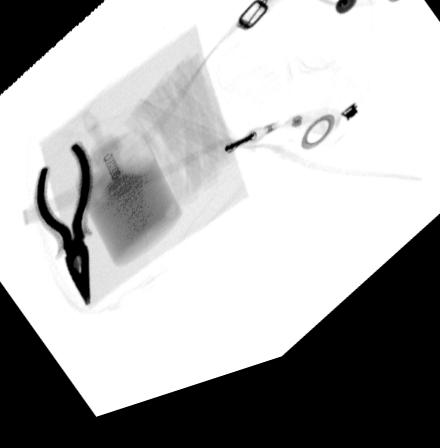Pliers: (31, 144, 94, 312)
